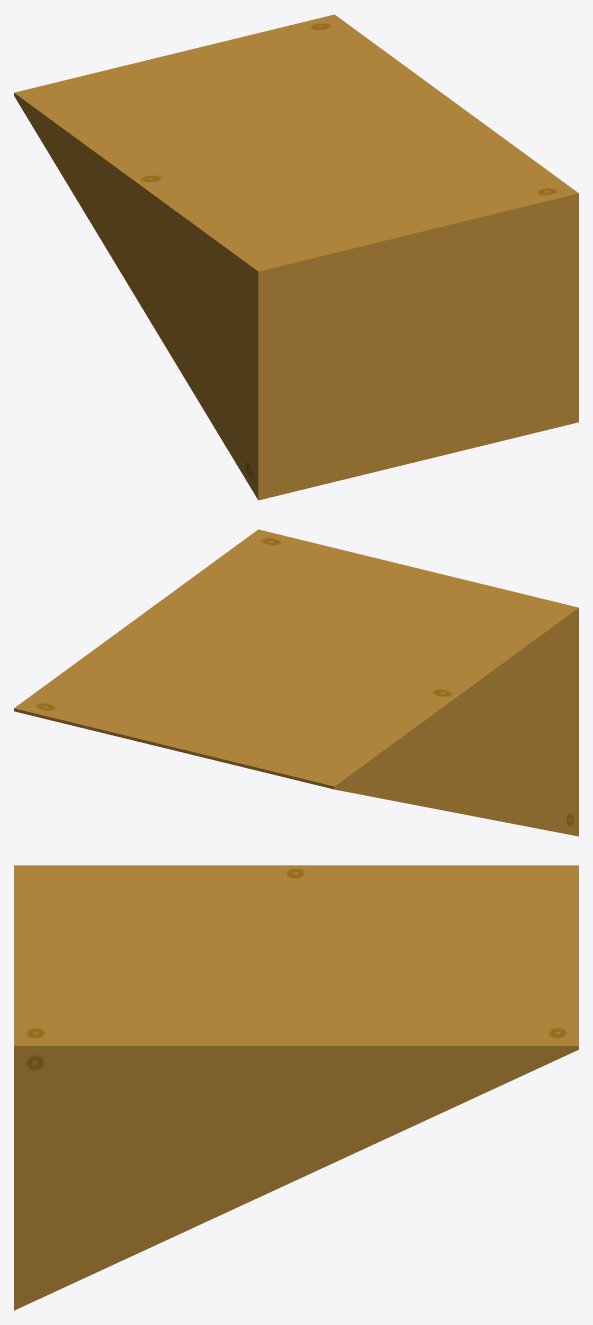
The model's file is LightMetal_Triangle.fbx.
3 views of the same model, one above another, from view 1: azimuth 30°, elevation 25°; view 2: azimuth 150°, elevation 25°; view 3: azimuth 270°, elevation 25° (orthographic). The views are drawn at different scales.
Visible parts, largest first — view 1: Box002; view 2: Box002; view 3: Box002.
Part boxes in pixels (x1,y1,x2,y2): Box002: [14, 14, 578, 500]; Box002: [14, 529, 578, 836]; Box002: [14, 865, 578, 1310].
Bounding box in the file's own units: 76 × 51.85 × 100.
1 material, 1 textured.
